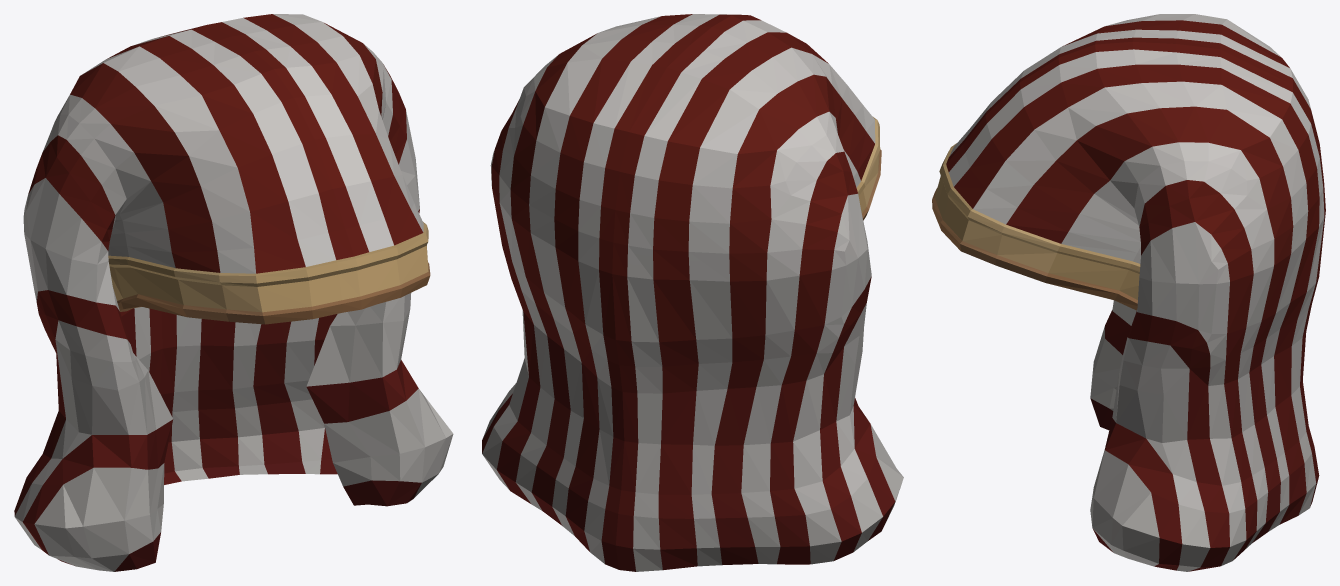
The model's file is ancientEgyptHat.glb.
3 views of the same model, side by side, from view 1: azimuth 30°, elevation 25°; view 2: azimuth 150°, elevation 25°; view 3: azimuth 270°, elevation 25° (orthographic). The views are drawn at different scales.
Parts seen in each view (by area): view 1: ancientEgyptHat; view 2: ancientEgyptHat; view 3: ancientEgyptHat.
Part boxes in pixels (<box>): ancientEgyptHat: <box>14,14,453,571</box>; ancientEgyptHat: <box>482,14,903,571</box>; ancientEgyptHat: <box>932,14,1325,571</box>.
Bounding box in the file's own units: 0.3829 × 0.4449 × 0.3423.
